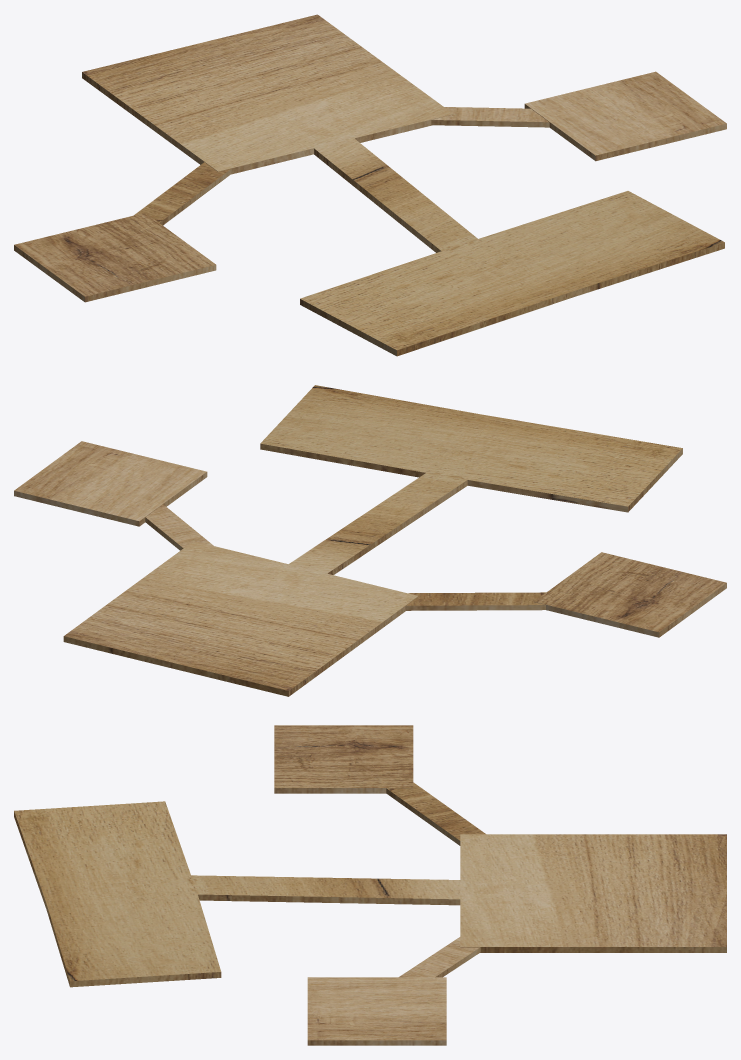
File: Tarima.obj
The picture shows the model from 3 angles, top to bottom: view 1: azimuth 30°, elevation 25°; view 2: azimuth 150°, elevation 25°; view 3: azimuth 270°, elevation 25°; orthographic projection. The views are drawn at different scales.
Visible parts, largest first — view 1: Plane; view 2: Plane; view 3: Plane.
Boxes of the visible parts, x1,y1,x2,y2 form: Plane: (14, 14, 726, 356); Plane: (14, 385, 726, 696); Plane: (14, 725, 726, 1045).
Size of the model in its own units: 90.71 by 0.8065 by 86.77.
1 material, 1 textured.
